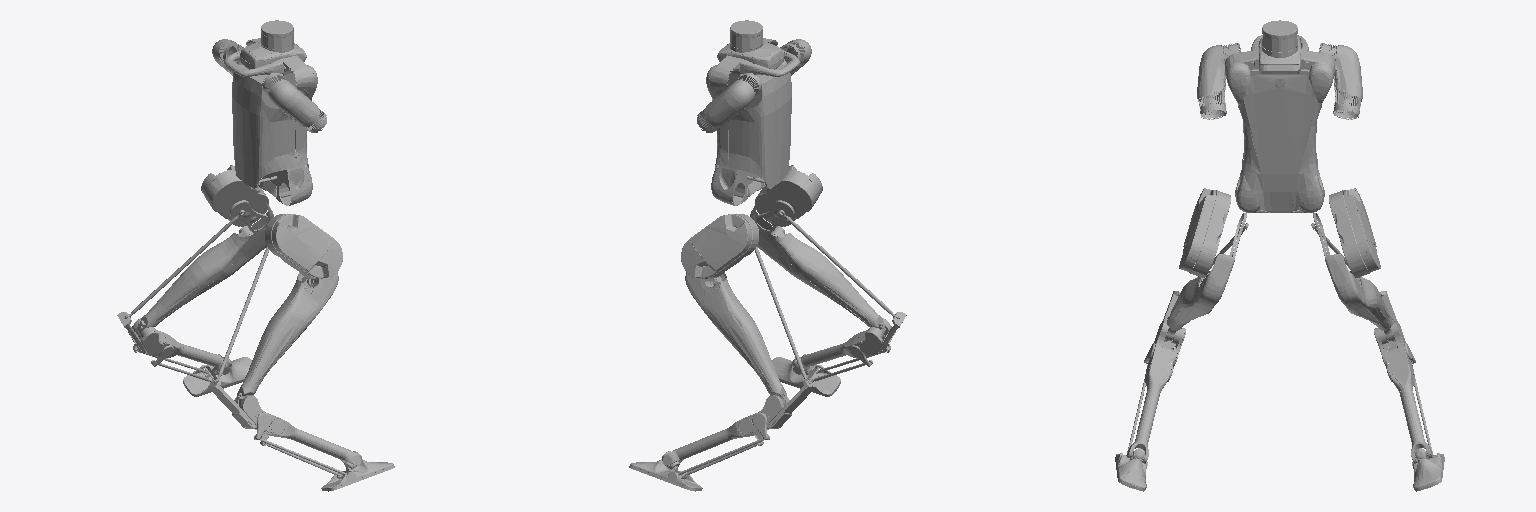
--- Facts derived from the render (not from the file) ---
The picture shows the robot from 3 angles, left to right: view 1: azimuth 30°, elevation 25°; view 2: azimuth 150°, elevation 25°; view 3: azimuth 270°, elevation 25°; orthographic projection.
Robot: digit — 47 links, 46 joints (40 revolute, 6 fixed); root link torso; default pose: all joints at 0.
Links seen in each view (by area): view 1: torso, left_shin, right_shin, right_hip_pitch, left_hip_pitch, right_tarsus, right_shoulder_pitch, left_tarsus, left_toe_roll, right_toe_roll, right_waist_cap, right_shoulder_cap (+3 smaller); view 2: torso, right_shin, left_shin, left_hip_pitch, right_hip_pitch, left_tarsus, left_shoulder_pitch, right_tarsus, right_toe_roll, left_toe_roll, left_waist_cap, left_shoulder_cap (+3 smaller); view 3: torso, left_hip_pitch, right_hip_pitch, left_tarsus, right_tarsus, left_shin, right_shin, left_shoulder_pitch, right_shoulder_pitch, right_shoulder_cap, left_shoulder_cap, left_toe_roll (+3 smaller).
Boxes of the visible links, x1,y1,x2,y2 form: torso: [224, 20, 311, 197]; left_shin: [138, 203, 273, 335]; right_shin: [237, 272, 338, 406]; right_hip_pitch: [265, 214, 342, 278]; left_hip_pitch: [201, 165, 268, 231]; right_tarsus: [232, 395, 361, 465]; right_shoulder_pitch: [262, 73, 326, 132]; left_tarsus: [128, 318, 230, 374]; left_toe_roll: [183, 357, 251, 396]; right_toe_roll: [321, 451, 394, 491]; right_waist_cap: [276, 159, 312, 205]; right_shoulder_cap: [283, 58, 317, 99]; torso: [712, 20, 799, 197]; right_shin: [750, 203, 885, 335]; left_shin: [685, 272, 786, 406]; left_hip_pitch: [681, 214, 758, 278]; right_hip_pitch: [755, 165, 822, 231]; left_tarsus: [662, 395, 791, 465]; left_shoulder_pitch: [697, 73, 761, 132]; right_tarsus: [793, 318, 895, 374]; right_toe_roll: [772, 357, 840, 396]; left_toe_roll: [629, 451, 702, 491]; left_waist_cap: [711, 159, 747, 205]; left_shoulder_cap: [706, 58, 740, 99]; torso: [1237, 20, 1322, 212]; left_hip_pitch: [1313, 188, 1380, 277]; right_hip_pitch: [1179, 188, 1246, 277]; left_tarsus: [1374, 321, 1432, 463]; right_tarsus: [1127, 321, 1185, 463]; left_shin: [1325, 254, 1395, 341]; right_shin: [1164, 254, 1234, 341]; left_shoulder_pitch: [1319, 43, 1362, 119]; right_shoulder_pitch: [1197, 43, 1240, 119]; right_shoulder_cap: [1225, 50, 1253, 104]; left_shoulder_cap: [1306, 50, 1334, 104]; left_toe_roll: [1412, 448, 1444, 491].
Size in the robot's own frame: 0.5602 by 0.9339 by 1.4 metres.
27 mesh visuals loaded from 19 distinct referenced files (12 binary STL); not drawn: 14 (reference not matched to a file when rendering).

robot.urdf — digit:
<?xml version="1.0" encoding="utf-8"?>
<robot name="digit">

    <link name="torso">
        <inertial>
            <origin rpy="0 0 0" xyz="0.001637 0.0002 0.259547"/>
            <mass value="15.028392"/>
            <inertia ixx="0.376284" ixy="-8.8e-05" ixz="0.008378" iyy="0.342655" iyz="6.7e-05" izz="0.100648"/>
        </inertial>
        <visual>
            <origin rpy="0 0 0" xyz="0 0 0"/>
            <geometry>
                <mesh filename="package://digit_description//meshes_new/torso.stl"/>
            </geometry>

            <material name="LightGrey">
                <color rgba="0.7 0.7 0.7 1.0"/>
            </material>
        </visual>
        <collision>
            <origin rpy="0 0 0" xyz="0 0 0"/>
            <geometry>
                <mesh filename="package://digit_description//meshes_new/torso.stl"/>
            </geometry>
        </collision>
    </link>

    <joint name="left_waist_cap_joint" type="fixed">
        <origin rpy="-1.57079632679 1.57 1.57079632679" xyz="-0.001 0.09 0.0"/>
        <axis xyz="0 0 1"/>
        <parent link="torso"/>
        <child link="left_waist_cap"/>
        <limit effort="1.4" lower="-1.309" upper="1.309" velocity="12.5"/>
    </joint>

    <link name="left_waist_cap">
        <inertial>
            <origin rpy="0 0 0" xyz="9e-06 0.003158 0.023405"/>
            <mass value="0.535396"/>
            <inertia ixx="0.000704" ixy="-1.4e-05" ixz="1.2e-05" iyy="0.00075" iyz="-3.5e-05" izz="0.000298"/>
        </inertial>
        <visual>
            <origin rpy="0 0 0" xyz="0 0 0"/>
            <geometry>
                <mesh filename="package://digit_description//meshes_new/shoulder-roll-housing.stl" scale="1 -1 1"/>
            </geometry>
            <material name="LightGrey">
                <color rgba="0.7 0.7 0.7 1.0"/>
            </material>
        </visual>
        <collision>
            <origin rpy="0 0 0" xyz="0 0 0"/>
            <geometry>
                <mesh filename="package://digit_description//meshes_new/shoulder-roll-housing.stl" scale="1 -1 1"/>
            </geometry>
        </collision>
    </link>

    <joint name="left-hip-roll_joint" type="revolute">
        <origin rpy="1.57079632679 -1.1955506 -1.57079632679" xyz="-0.001 0.091 0"/>
        <axis xyz="0 0 1"/>
        <parent link="torso"/>
        <child link="left_hip_roll"/>
        <limit effort="1.4" lower="-1.0472" upper="1.0472" velocity="12.15"/>
    </joint>
    <link name="left_hip_roll">
        <inertial>
            <origin rpy="0 0 0" xyz="-0.001967 0.000244 0.031435"/>
            <mass value="0.915088"/>
            <inertia ixx="0.001017" ixy="-3e-06" ixz="1.3e-05" iyy="0.001148" iyz="-4e-06" izz="0.000766"/>
        </inertial>
        <visual>
            <origin rpy="0 0 0" xyz="0 0 0"/>
            <geometry>
                <mesh filename="package://digit_description//meshes_new/hip-yaw-housing.stl"/>
            </geometry>

            <material name="LightGrey">
                <color rgba="0.7 0.7 0.7 1.0"/>
            </material>
            <material name="LightGrey">
                <color rgba="0.7 0.7 0.7 1.0"/>
            </material>
        </visual>
        <collision>
            <origin rpy="0 0 0" xyz="0 0 0"/>
            <geometry>
                <mesh filename="package://digit_description//meshes_new/hip-yaw-housing.stl"/>
            </geometry>
        </collision>
    </link>

    <joint name="left_hip_yaw_joint" type="revolute">
        <origin rpy="0 -1.57079632679 0" xyz="-0.0505 0 0.044"/>
        <axis xyz="0 0 1"/>
        <parent link="left_hip_roll"/>
        <child link="left_hip_yaw"/>
        <limit effort="1.4" lower="-0.698132" upper="0.698132" velocity="12.15"/>
    </joint>

    <link name="left_hip_yaw">
        <inertial>
            <origin rpy="0 0 0" xyz="1e-05 -0.001945 0.042033"/>
            <mass value="0.818753"/>
            <inertia ixx="0.001627" ixy="-1e-06" ixz="2e-06" iyy="0.001929" iyz="5.3e-05" izz="0.00077"/>
        </inertial>
        <visual>
            <origin rpy="0 0 0" xyz="0 0 0"/>
            <geometry>
                <mesh filename="package://digit_description//meshes_new/hip-pitch-housing.stl"/>
            </geometry>

            <material name="LightGrey">
                <color rgba="0.7 0.7 0.7 1.0"/>
            </material>
        </visual>
        <collision>
            <origin rpy="0 0 0" xyz="0 0 0"/>
            <geometry>
                <mesh filename="package://digit_description//meshes_new/hip-pitch-housing.stl"/>
            </geometry>
        </collision>
    </link>

    <joint name="left_hip_pitch_joint" type="revolute">
        <origin rpy="-1.57079632679 -0.7853981 3.1415927" xyz="0 0.004 0.068"/>
        <axis xyz="0 0 -1"/>
        <parent link="left_hip_yaw"/>
        <child link="left_hip_pitch"/>
        <limit effort="12.5" lower="-1.0472" upper="1.57079632679" velocity="8.5"/>
    </joint>

    <link name="left_hip_pitch">
        <inertial>
            <origin rpy="0 0 0" xyz="0.060537 0.000521 -0.038857"/>
            <mass value="6.244279"/>
            <inertia ixx="0.011533" ixy="-0.000171" ixz="0.000148" iyy="0.033345" iyz="0.000178" izz="0.033958"/>
        </inertial>
        <visual>
            <origin rpy="0 0 0" xyz="0 0 0"/>
            <geometry>
                <mesh filename="package://digit_description//meshes_new/hip-pitch.stl"/>
            </geometry>

            <material name="LightGrey">
                <color rgba="0.7 0.7 0.7 1.0"/>
            </material>
        </visual>
        <collision>
            <origin rpy="0 0 0" xyz="0 0 0"/>
            <geometry>
                <mesh filename="package://digit_description//meshes_new/hip-pitch.stl"/>
            </geometry>
        </collision>
    </link>

    <joint name="left_achillies_rod_joint1" type="revolute">
        <origin rpy="0.0087529 0.0708516 -1.435541" xyz="0 0 0.046"/>
        <axis xyz="0 1 0"/>
        <parent link="left_hip_pitch"/>
        <child link="left_achillies_rod_parent"/>
        <limit effort="12.5" lower="-1.5" upper="1.5" velocity="8.5085"/>
    </joint>

    <link name="left_achillies_rod_parent"/>

    <joint name="left_achillies_rod_joint2" type="revolute">
        <origin rpy="0 0 0" xyz="0 0 0"/>
        <axis xyz="0 0 1"/>
        <parent link="left_achillies_rod_parent"/>
        <child link="left_achillies_rod"/>
        <limit effort="12.5" lower="-1.5" upper="1.5" velocity="8.5085"/>
    </joint>

    <link name="left_achillies_rod">
        <inertial>
            <origin rpy="0 0 0" xyz="0.2506 0 0"/>
            <mass value="0.178148"/>
            <inertia ixx="3e-06" ixy="0" ixz="0" iyy="0.004501" iyz="0" izz="0.004501"/>
        </inertial>
        <visual>
            <origin rpy="0 0 0" xyz="0 0 0"/>
            <geometry>
                <mesh filename="package://digit_description//meshes_new/achilles-rod.stl"/>
            </geometry>

            <material name="LightGrey">
                <color rgba="0.7 0.7 0.7 1.0"/>
            </material>
        </visual>
        <collision>
            <origin rpy="0 0 0" xyz="0 0 0"/>
            <geometry>
                <mesh filename="package://digit_description//meshes_new/achilles-rod.stl"/>
            </geometry>
        </collision>
    </link>

    <joint name="left_knee_joint" type="revolute">
        <origin rpy="0 0 -1.57079632679" xyz="0.12 0 0.0045"/>
        <axis xyz="0 0 1"/>
        <parent link="left_hip_pitch"/>
        <child link="left_knee"/>
        <limit effort="12.5" lower="-1.2392" upper="0.8727" velocity="8.5085"/>
    </joint>

    <link name="left_knee">
        <inertial>
            <origin rpy="0 0 0" xyz="0.045641 0.042154 0.001657"/>
            <mass value="1.227077"/>
            <inertia ixx="0.002643" ixy="-0.001832" ixz="6.6e-05" iyy="0.005098" iyz="4.5e-05" izz="0.007019"/>
        </inertial>
        <visual>
            <origin rpy="0 0 0" xyz="0 0 0"/>
            <geometry>
                <mesh filename="package://digit_description//meshes_new/knee.stl"/>
            </geometry>

            <material name="LightGrey">
                <color rgba="0.7 0.7 0.7 1.0"/>
            </material>
        </visual>
        <collision>
            <origin rpy="0 0 0" xyz="0 0 0"/>
            <geometry>
                <mesh filename="package://digit_description//meshes_new/knee.stl"/>
            </geometry>
        </collision>
    </link>

    <joint name="left_shin_joint" type="fixed">
        <origin rpy="0 0 0" xyz="0.060677 0.047406 0"/>
        <axis xyz="0 0 1"/>
        <parent link="left_knee"/>
        <child link="left_shin"/>
        <limit effort="0" lower="-0.35" upper="0.35" velocity="10"/>
    </joint>

    <link name="left_shin">
        <inertial>
            <origin rpy="0 0 0" xyz="0.174265 0.010265 0.00107"/>
            <mass value="0.895793"/>
            <inertia ixx="0.001128" ixy="0.001098" ixz="0.000196" iyy="0.022492" iyz="-3e-06" izz="0.022793"/>
        </inertial>
        <visual>
            <origin rpy="0 0 0" xyz="0 0 0"/>
            <geometry>
                <mesh filename="package://digit_description//meshes_new/shin.stl"/>
            </geometry>

            <material name="LightGrey">
                <color rgba="0.7 0.7 0.7 1.0"/>
            </material>
        </visual>
        <collision>
            <origin rpy="0 0 0" xyz="0 0 0"/>
            <geometry>
                <mesh filename="package://digit_description//meshes_new/shin.stl"/>
            </geometry>
        </collision>
    </link>

    <joint name="left_tarsus_joint" type="revolute">
        <origin rpy="0 0 1.7976891" xyz="0.434759 0.02 0"/>
        <axis xyz="0 0 1"/>
        <parent link="left_shin"/>
        <child link="left_tarsus"/>
        <limit effort="0" lower="-0.8779" upper="1.2497" velocity="20"/>
    </joint>

    <link name="left_tarsus">
        <inertial>
            <origin rpy="0 0 0" xyz="0.100777 -0.029183 0.000678"/>
            <mass value="1.322865"/>
            <inertia ixx="0.000932" ixy="0.00061" ixz="0.000102" iyy="0.016409" iyz="9e-06" izz="0.016501"/>
        </inertial>
        <visual>
            <origin rpy="0 0 0" xyz="0 0 0"/>
            <geometry>
                <mesh filename="package://digit_description//meshes_new/tarsus.stl"/>
            </geometry>

            <material name="LightGrey">
                <color rgba="0.7 0.7 0.7 1.0"/>
            </material>
        </visual>
        <collision>
            <origin rpy="0 0 0" xyz="0 0 0"/>
            <geometry>
                <mesh filename="package://digit_description//meshes_new/tarsus.stl"/>
            </geometry>
        </collision>
    </link>

    <joint name="left_heel_spring_joint" type="revolute">
        <origin rpy="-0.0689073 -0.0370354 2.7207176" xyz="-0.01766 -0.029456 0.00104"/>
        <axis xyz="0 0 1"/>
        <parent link="left_tarsus"/>
        <child link="left_heel_spring"/>
        <limit effort="0.9" lower="-0.104719753333" upper="0.104719753333" velocity="11.5"/>
    </joint>

    <link name="left_heel_spring">
        <inertial>
            <origin rpy="0 0 0" xyz="0.049086 0.004739 -4.5e-05"/>
            <mass value="0.230018"/>
            <inertia ixx="5.5e-05" ixy="1.5e-05" ixz="1e-06" iyy="0.00074" iyz="0" izz="0.000701"/>
        </inertial>
        <visual>
            <origin rpy="0 0 0" xyz="0 0 0"/>
            <geometry>
                <mesh filename="package://digit_description//meshes_new/heel-spring.stl"/>
            </geometry>

            <material name="LightGrey">
                <color rgba="0.7 0.7 0.7 1.0"/>
            </material>
        </visual>
        <collision>
            <origin rpy="0 0 0" xyz="0 0 0"/>
            <geometry>
                <mesh filename="package://digit_description//meshes_new/heel-spring.stl"/>
            </geometry>
        </collision>
    </link>

    <joint name="left_toe_A_joint" type="revolute">
        <origin rpy="3.1415927 0 -1.6050048" xyz="0.059 -0.034 -0.0276"/>
        <axis xyz="0 0 1"/>
        <parent link="left_tarsus"/>
        <child link="left_toe_A"/>
        <limit effort="0.9" lower="-0.912807183222" upper="1.2644910215" velocity="11.5"/>
    </joint>

    <link name="left_toe_A">
        <inertial>
            <origin rpy="0 0 0" xyz="0.005161 1e-06 -0.002248"/>
            <mass value="0.139557"/>
            <inertia ixx="2.9e-05" ixy="0" ixz="-4e-06" iyy="5.8e-05" iyz="0" izz="7.4e-05"/>
        </inertial>
        <visual>
            <origin rpy="0 0 0" xyz="0 0 0"/>
            <geometry>
                <mesh filename="package://digit_description//meshes_new/toe-output.stl"/>
            </geometry>

            <material name="LightGrey">
                <color rgba="0.7 0.7 0.7 1.0"/>
            </material>
        </visual>
        <collision>
            <origin rpy="0 0 0" xyz="0 0 0"/>
            <geometry>
                <mesh filename="package://digit_description//meshes_new/toe-output.stl"/>
            </geometry>
        </collision>
    </link>

    <joint name="left_toe_A_rod_parent_joint" type="revolute">
        <origin rpy="-0.037531 0.0046535 -1.6049813" xyz="0.057 0 -0.008"/>
        <axis xyz="0 1 0"/>
        <parent link="left_toe_A"/>
        <child link="left_toe_A_rod_parent"/>
        <limit effort="0.9" lower="-3.785398163397" upper="3.785398163397" velocity="11.5"/>
    </joint>

    <link name="left_toe_A_rod_parent" />

    <joint name="left_toe_A_rod_joint" type="revolute">
        <origin rpy="0 0 0" xyz="0 0 0"/>
        <axis xyz="0 0 1"/>
        <parent link="left_toe_A_rod_parent"/>
        <child link="left_toe_A_rod"/>
        <limit effort="0.9" lower="-3.785398163397" upper="3.785398163397" velocity="11.5"/>
    </joint>

    <link name="left_toe_A_rod">
        <inertial>
            <origin rpy="0 0 0" xyz="0.171071 0 0"/>
            <mass value="0.090983"/>
            <inertia ixx="1e-06" ixy="0" ixz="0" iyy="0.001182" iyz="0" izz="0.001182"/>
        </inertial>
        <visual>
            <origin rpy="0 0 0" xyz="0 0 0"/>
            <geometry>
                <mesh filename="package://digit_description//meshes_new/toe-A-rod.stl"/>
            </geometry>

            <material name="LightGrey">
                <color rgba="0.7 0.7 0.7 1.0"/>
            </material>
        </visual>
        <collision>
            <origin rpy="0 0 0" xyz="0 0 0"/>
            <geometry>
                <mesh filename="package://digit_description//meshes_new/toe-A-rod.stl"/>
            </geometry>
        </collision>
    </link>

    <joint name="left_toe_B_joint" type="revolute">
        <origin rpy="0 0 -1.6049813" xyz="0.111 -0.034 0.0276"/>
        <axis xyz="0 0 1"/>
        <parent link="left_tarsus"/>
        <child link="left_toe_B"/>
        <limit effort="0.9" lower="-0.912807183222" upper="1.2644910215" velocity="11.5"/>
    </joint>

    <link name="left_toe_B">
        <inertial>
            <origin rpy="0 0 0" xyz="0.005161 1e-06 -0.002248"/>
            <mass value="0.139557"/>
            <inertia ixx="2.9e-05" ixy="0" ixz="-4e-06" iyy="5.8e-05" iyz="0" izz="7.4e-05"/>
        </inertial>
        <visual>
            <origin rpy="0 0 0" xyz="0 0 0"/>
            <geometry>
                <mesh filename="package://digit_description//meshes_new/toe-output.stl"/>
            </geometry>

            <material name="LightGrey">
                <color rgba="0.7 0.7 0.7 1.0"/>
            </material>
        </visual>
        <collision>
            <origin rpy="0 0 0" xyz="0 0 0"/>
            <geometry>
                <mesh filename="package://digit_description//meshes_new/toe-output.stl"/>
            </geometry>
        </collision>
    </link>

    <joint name="left_toe_B_rod_parent_joint" type="revolute">
        <origin rpy="-0.0538329 -0.0025446 1.5948471" xyz="0.057 0 -0.008"/>
        <axis xyz="0 1 0"/>
        <parent link="left_toe_B"/>
        <child link="left_toe_B_rod_parent"/>
        <limit effort="0.9" lower="-3.785398163397" upper="3.785398163397" velocity="11.5"/>
    </joint>

    <link name="left_toe_B_rod_parent" />

    <joint name="left_toe_B_rod_joint" type="revolute">
        <origin rpy="0 0 0" xyz="0 0 0"/>
        <axis xyz="0 0 1"/>
        <parent link="left_toe_B_rod_parent"/>
        <child link="left_toe_B_rod"/>
        <limit effort="0.9" lower="-3.785398163397" upper="3.785398163397" velocity="11.5"/>
    </joint>

    <link name="left_toe_B_rod">
        <inertial>
            <origin rpy="0 0 0" xyz="0.142991 0 0"/>
            <mass value="0.079507"/>
            <inertia ixx="1e-06" ixy="0" ixz="0" iyy="0.000768" iyz="0" izz="0.000768"/>
        </inertial>
        <visual>
            <origin rpy="0 0 0" xyz="0 0 0"/>
            <geometry>
                <mesh filename="package://digit_description//meshes_new/toe-B-rod.stl"/>
            </geometry>

            <material name="LightGrey">
                <color rgba="0.7 0.7 0.7 1.0"/>
            </material>
        </visual>
        <collision>
            <origin rpy="0 0 0" xyz="0 0 0"/>
            <geometry>
                <mesh filename="package://digit_description//meshes_new/toe-B-rod.stl"/>
            </geometry>
        </collision>
    </link>

    <joint name="left_toe_pitch_joint" type="revolute">
        <origin rpy="0 0 1.1956" xyz="0.408 -0.04 0"/>
        <axis xyz="0 0 1"/>
        <parent link="left_tarsus"/>
        <child link="left_toe_pitch"/>
        <limit effort="0.9" lower="-0.785398163397" upper="0.785398163397" velocity="11.5"/>
    </joint>

    <link name="left_toe_pitch">
        <inertial>
            <origin rpy="0 0 0" xyz="-0.000141 2e-06 3e-06"/>
            <mass value="0.043881"/>
            <inertia ixx="5e-06" ixy="0" ixz="0" iyy="8e-06" iyz="0" izz="5e-06"/>
        </inertial>
        <visual>
            <origin rpy="0 0 0" xyz="0 0 0"/>
            <geometry>
                <mesh filename="package://digit_description//meshes_new/toe-pitch.stl"/>
            </geometry>

            <material name="LightGrey">
                <color rgba="0.7 0.7 0.7 1.0"/>
            </material>
        </visual>
        <collision>
            <origin rpy="0 0 0" xyz="0 0 0"/>
            <geometry>
                <mesh filename="package://digit_description//meshes_new/toe-pitch.stl"/>
            </geometry>
        </collision>
    </link>

    <joint name="left_toe_roll_joint" type="revolute">
        <origin rpy="0 1.57079632679 0" xyz="0 0 0"/>
        <axis xyz="0 0 1"/>
        <parent link="left_toe_pitch"/>
        <child link="left_toe_roll"/>
        <limit effort="0.9" lower="-0.6109" upper="0.6109" velocity="11.5"/>
    </joint>

    <link name="left_toe_roll">
        <inertial>
            <origin rpy="0 0 0" xyz="9e-06 -0.028084 -0.023204"/>
            <mass value="0.531283"/>
            <inertia ixx="0.00187" ixy="0" ixz="0" iyy="0.001616" iyz="0.000566" izz="0.000843"/>
        </inertial>
        <visual>
            <origin rpy="0 0 0" xyz="0 0 0"/>
            <geometry>
                <mesh filename="package://digit_description//meshes_new/toe-roll.stl"/>
            </geometry>

            <material name="LightGrey">
                <color rgba="0.7 0.7 0.7 1.0"/>
            </material>
        </visual>
        <collision>
            <origin rpy="0 0 0" xyz="0 0 0"/>
            <geometry>
                <mesh filename="package://digit_description//meshes_new/toe-roll.stl"/>
            </geometry>
        </collision>
    </link>

    <joint name="left_shoulder_cap_joint" type="fixed">
        <origin rpy="-1.57079632679 -1.3962633 1.57079632679" xyz="0.001 0.12 0.4"/>
        <axis xyz="0 0 1"/>
        <parent link="torso"/>
        <child link="left_shoulder_cap"/>
        <limit effort="1.4" lower="-1.309" upper="1.309" velocity="12.5"/>
    </joint>

    <link name="left_shoulder_cap">
        <inertial>
            <origin rpy="0 0 0" xyz="9e-06 -0.003158 0.023405"/>
            <mass value="0.535396"/>
            <inertia ixx="0.000704" ixy="1.4e-05" ixz="1.2e-05" iyy="0.00075" iyz="3.5e-05" izz="0.000298"/>
        </inertial>
        <visual>
            <origin rpy="0 0 0" xyz="0 0 0"/>
            <geometry>
                <mesh filename="package://digit_description//meshes_new/shoulder-roll-housing.stl"/>
            </geometry>

            <material name="LightGrey">
                <color rgba="0.7 0.7 0.7 1.0"/>
            </material>
        </visual>
        <collision>
            <origin rpy="0 0 0" xyz="0 0 0"/>
            <geometry>
                <mesh filename="package://digit_description//meshes_new/shoulder-roll-housing.stl"/>
            </geometry>
        </collision>
    </link>

    <joint name="left_shoulder_roll_joint" type="revolute">
        <origin rpy="-1.57079632679 -1.3962633 1.57079632679" xyz="-0.001 0.12 0.4"/>
        <axis xyz="0 0 1"/>
        <parent link="torso"/>
        <child link="left_shoulder_roll"/>
        <limit effort="1.4" lower="-1.309" upper="1.309" velocity="12.5"/>
    </joint>

    <link name="left_shoulder_roll">
        <inertial>
            <origin rpy="0 0 0" xyz="9e-06 -0.003158 0.023405"/>
            <mass value="0.535396"/>
            <inertia ixx="0.000704" ixy="1.4e-05" ixz="1.2e-05" iyy="0.00075" iyz="3.5e-05" izz="0.000298"/>
        </inertial>
        <visual>
            <origin rpy="0 0 0" xyz="0 0 0"/>
            <geometry>
                <mesh filename="package://digit_description//meshes_new/arm-L1.stl"/>
            </geometry>

            <material name="LightGrey">
                <color rgba="0.7 0.7 0.7 1.0"/>
            </material>
        </visual>
        <collision>
            <origin rpy="0 0 0" xyz="0 0 0"/>
            <geometry>
                <mesh filename="package://digit_description//meshes_new/arm-L1.stl"/>
            </geometry>
        </collision>
    </link>

    <joint name="left_shoulder_pitch_joint" type="revolute">
        <origin rpy="1.57079632679 0.785398163397 0.0" xyz="-0.00017 -0.011055 0.0555"/>
        <axis xyz="0 0 -1"/>
        <parent link="left_shoulder_roll"/>
        <child link="left_shoulder_pitch"/>
        <limit effort="1.4" lower="-2.5307" upper="2.5307" velocity="12.5"/>
    </joint>

    <link name="left_shoulder_pitch">
        <inertial>
            <origin rpy="0 0 0" xyz="-4.2e-05 -0.061882 -0.073788"/>
            <mass value="1.440357"/>
            <inertia ixx="0.006761" ixy="-6e-06" ixz="-3e-06" iyy="0.002087" iyz="-0.002046" izz="0.005778"/>
        </inertial>
        <visual>
            <origin rpy="0 0 0" xyz="0 0 0"/>
            <geometry>
                <mesh filename="package://digit_description//meshes_new/arm-L2.stl"/>
            </geometry>
            <material name="LightGrey">
                <color rgba="0.7 0.7 0.7 1.0"/>
            </material>
        </visual>
        <collision>
            <origin rpy="0 0 0" xyz="0 0 0"/>
            <geometry>
                <mesh filename="package://digit_description//meshes_new/arm-L2.stl"/>
            </geometry>
        </collision>
    </link>

    <joint name="shoulder_yaw_joint_left" type="revolute">
        <origin rpy="1.57079632679 0 0" xyz="0 -0.165 -0.1"/>
        <axis xyz="0 0 1"/>
        <parent link="left_shoulder_pitch"/>
        <child link="left_shoulder_yaw"/>
        <limit effort="1.4" lower="-1.7453" upper="1.7453" velocity="10"/>
    </joint>

    <link name="left_shoulder_yaw">
        <inertial>
            <origin rpy="0 0 0" xyz="-3e-05 -0.001937 0.11407"/>
            <mass value="1.065387"/>
            <inertia ixx="0.006967" ixy="1e-06" ixz="-1e-06" iyy="0.007003" iyz="1.5e-05" izz="0.000673"/>
        </inertial>
        <visual>
            <origin rpy="0 0 0" xyz="0 0 0"/>
            <geometry>
                <mesh filename="package://digit_description//meshes_new/arm-L3.stl"/>
            </geometry>

            <material name="LightGrey">
                <color rgba="0.7 0.7 0.7 1.0"/>
            </material>
        </visual>
        <collision>
            <origin rpy="0 0 0" xyz="0 0 0"/>
            <geometry>
                <mesh filename="package://digit_description//meshes_new/arm-L3.stl"/>
            </geometry>
        </collision>
    </link>

    <joint name="left_elbow_joint" type="revolute">
        <origin rpy="1.57079632679 -0.3926991 0" xyz="0 -0.0385 0.185"/>
        <axis xyz="0 0 1"/>
        <parent link="left_shoulder_yaw"/>
        <child link="left_elbow"/>
        <limit effort="1.4" lower="-1.3526" upper="1.3526" velocity="12.5"/>
    </joint>

    <link name="left_elbow">
        <inertial>
            <origin rpy="0 0 0" xyz="0.107996 -0.000521 -0.017765"/>
            <mass value="0.550582"/>
            <inertia ixx="0.000476" ixy="2.9e-05" ixz="0.001403" iyy="0.009564" iyz="1.5e-05" izz="-9e-06"/>
        </inertial>
        <visual>
            <origin rpy="0 0 0" xyz="0 0 0"/>
            <geometry>
                <mesh filename="package://digit_description//meshes_new/arm-L4.stl"/>
            </geometry>

            <material name="LightGrey">
                <color rgba="0.7 0.7 0.7 1.0"/>
            </material>
        </visual>
        <collision>
            <origin rpy="0 0 0" xyz="0 0 0"/>
            <geometry>
                <mesh filename="package://digit_description//meshes_new/arm-L4.stl"/>
            </geometry>
        </collision>
    </link>


    <joint name="right_waist_cap_joint" type="fixed">
        <origin rpy="1.57079632679 1.57 -1.57079632679" xyz="-0.001 -0.09 0.0"/>
        <axis xyz="0 0 1"/>
        <parent link="torso"/>
        <child link="right_waist_cap"/>
        <limit effort="1.4" lower="-1.309" upper="1.309" velocity="12.5"/>
    </joint>

    <link name="right_waist_cap">
        <inertial>
            <origin rpy="0 0 0" xyz="9e-06 -0.003158 0.023405"/>
            <mass value="0.535396"/>
            <inertia ixx="0.000704" ixy="1.4e-05" ixz="1.2e-05" iyy="0.00075" iyz="3.5e-05" izz="0.000298"/>
        </inertial>
        <visual>
            <origin rpy="0 0 0" xyz="0 0 0"/>
            <geometry>
                <mesh filename="package://digit_description//meshes_new/shoulder-roll-housing.stl"/>
            </geometry>
            <material name="LightGrey">
                <color rgba="0.7 0.7 0.7 1.0"/>
            </material>
        </visual>
        <collision>
            <origin rpy="0 0 0" xyz="0 0 0"/>
            <geometry>
                <mesh filename="package://digit_description//meshes_new/shoulder-roll-housing.stl"/>
            </geometry>
        </collision>
    </link>

    <joint name="right-hip-roll_joint" type="revolute">
        <origin rpy="-1.57079632679 -1.1955506 1.57079632679" xyz="-0.001 -0.091 0"/>
        <axis xyz="0 0 1"/>
        <parent link="torso"/>
        <child link="right_hip_roll"/>
        <limit effort="1.4" lower="-1.0472" upper="1.0472" velocity="12.15"/>
    </joint>
    <link name="right_hip_roll">
        <inertial>
            <origin rpy="0 0 0" xyz="-0.001967 -0.000244 0.031435"/>
            <mass value="0.915088"/>
            <inertia ixx="0.001017" ixy="3e-06" ixz="1.3e-05" iyy="0.001148" iyz="4e-06" izz="0.000766"/>
        </inertial>
        <visual>
            <origin rpy="0 0 0" xyz="0 0 0"/>
            <geometry>
                <mesh filename="package://digit_description//meshes_new/hip-yaw-housing.stl" scale="1 -1 1"/>
            </geometry>

            <material name="LightGrey">
                <color rgba="0.7 0.7 0.7 1.0"/>
            </material>
            <material name="LightGrey">
                <color rgba="0.7 0.7 0.7 1.0"/>
            </material>
        </visual>
        <collision>
            <origin rpy="0 0 0" xyz="0 0 0"/>
            <geometry>
                <mesh filename="package://digit_description//meshes_new/hip-yaw-housing.stl" scale="1 -1 1"/>
            </geometry>
        </collision>
    </link>

    <joint name="right_hip_yaw_joint" type="revolute">
        <origin rpy="0 -1.57079632679 0" xyz="-0.0505 0 0.044"/>
        <axis xyz="0 0 1"/>
        <parent link="right_hip_roll"/>
        <child link="right_hip_yaw"/>
        <limit effort="1.4" lower="-0.698132" upper="0.698132" velocity="12.15"/>
    </joint>

    <link name="right_hip_yaw">
        <inertial>
            <origin rpy="0 0 0" xyz="1e-05 0.001945 0.042033"/>
            <mass value="0.818753"/>
            <inertia ixx="0.001627" ixy="1e-06" ixz="2e-06" iyy="0.001929" iyz="-5.3e-05" izz="0.00077"/>
        </inertial>
        <visual>
            <origin rpy="0 0 0" xyz="0 0 0"/>
            <geometry>
                <mesh filename="package://digit_description//meshes_new/hip-pitch-housing.stl" scale="1 -1 1"/>
            </geometry>

            <material name="LightGrey">
                <color rgba="0.7 0.7 0.7 1.0"/>
            </material>
        </visual>
        <collision>
            <origin rpy="0 0 0" xyz="0 0 0"/>
            <geometry>
                <mesh filename="package://digit_description//meshes_new/hip-pitch-housing.stl" scale="1 -1 1"/>
            </geometry>
        </collision>
    </link>

    <joint name="right_hip_pitch_joint" type="revolute">
        <origin rpy="1.57079632679 -0.7853981 -3.1415927" xyz="0 -0.004 0.068"/>
        <axis xyz="0 0 -1"/>
        <parent link="right_hip_yaw"/>
        <child link="right_hip_pitch"/>
        <limit effort="12.5" lower="-1.0472" upper="1.57079632679" velocity="8.5"/>
    </joint>

    <link name="right_hip_pitch">
        <inertial>
            <origin rpy="0 0 0" xyz="0.060537 -0.000521 -0.038857"/>
            <mass value="6.244279"/>
            <inertia ixx="0.011533" ixy="0.000171" ixz="0.000148" iyy="0.033345" iyz="-0.000178" izz="0.033958"/>
        </inertial>
        <visual>
            <origin rpy="0 0 0" xyz="0 0 0"/>
            <geometry>
                <mesh filename="package://digit_description//meshes_new/hip-pitch.stl" scale="1 -1 1"/>
            </geometry>

            <material name="LightGrey">
                <color rgba="0.7 0.7 0.7 1.0"/>
            </material>
        </visual>
        <collision>
            <origin rpy="0 0 0" xyz="0 0 0"/>
            <geometry>
                <mesh filename="package://digit_description//meshes_new/hip-pitch.stl" scale="1 -1 1"/>
            </geometry>
        </collision>
    </link>

    <joint name="right_achillies_rod_joint1" type="revolute">
        <origin rpy="-0.0087529 0.0708516 1.435541" xyz="0 0 0.046"/>
        <axis xyz="0 1 0"/>
        <parent link="right_hip_pitch"/>
        <child link="right_achillies_rod_parent"/>
        <limit effort="12.5" lower="-1.5" upper="1.5" velocity="8.5085"/>
    </joint>

    <link name="right_achillies_rod_parent"/>

    <joint name="right_achillies_rod_joint2" type="revolute">
        <origin rpy="0 0 0" xyz="0 0 0"/>
        <axis xyz="0 0 1"/>
        <parent link="right_achillies_rod_parent"/>
        <child link="right_achillies_rod"/>
        <limit effort="12.5" lower="-1.5" upper="1.5" velocity="8.5085"/>
    </joint>

    <link name="right_achillies_rod">
        <inertial>
            <origin rpy="0 0 0" xyz="0.2506 0 0"/>
            <mass value="0.178148"/>
            <inertia ixx="3e-06" ixy="0" ixz="0" iyy="0.004501" iyz="0" izz="0.004501"/>
        </inertial>
        <visual>
            <origin rpy="0 0 0" xyz="0 0 0"/>
            <geometry>
                <mesh filename="package://digit_description//meshes_new/achilles-rod.stl" scale="1 -1 1"/>
            </geometry>

            <material name="LightGrey">
                <color rgba="0.7 0.7 0.7 1.0"/>
            </material>
        </visual>
        <collision>
            <origin rpy="0 0 0" xyz="0 0 0"/>
            <geometry>
                <mesh filename="package://digit_description//meshes_new/achilles-rod.stl" scale="1 -1 1"/>
            </geometry>
        </collision>
    </link>

    <joint name="right_knee_joint" type="revolute">
        <origin rpy="0 0 1.57079632679" xyz="0.12 0 0.0045"/>
        <axis xyz="0 0 1"/>
        <parent link="right_hip_pitch"/>
        <child link="right_knee"/>
        <limit effort="12.5" lower="-0.8727" upper="1.2392" velocity="8.5085"/>
    </joint>

    <link name="right_knee">
        <inertial>
            <origin rpy="0 0 0" xyz="0.045641 -0.042154 0.001657"/>
            <mass value="1.227077"/>
            <inertia ixx="0.002643" ixy="0.001832" ixz="6.6e-05" iyy="0.005098" iyz="-4.5e-05" izz="0.007019"/>
        </inertial>
        <visual>
            <origin rpy="0 0 0" xyz="0 0 0"/>
            <geometry>
                <mesh filename="package://digit_description//meshes_new/knee.stl" scale="1 -1 1"/>
            </geometry>

            <material name="LightGrey">
                <color rgba="0.7 0.7 0.7 1.0"/>
            </material>
        </visual>
        <collision>
            <origin rpy="0 0 0" xyz="0 0 0"/>
            <geometry>
                <mesh filename="package://digit_description//meshes_new/knee.stl" scale="1 -1 1"/>
            </geometry>
        </collision>
    </link>

    <joint name="right_shin_joint" type="fixed">
        <origin rpy="0 0 0" xyz="0.060677 -0.047406 0"/>
        <axis xyz="0 0 1"/>
        <parent link="right_knee"/>
        <child link="right_shin"/>
        <limit effort="0" lower="-0.35" upper="0.35" velocity="10"/>
    </joint>

    <link name="right_shin">
        <inertial>
            <origin rpy="0 0 0" xyz="0.174265 -0.010265 0.00107"/>
            <mass value="0.895793"/>
            <inertia ixx="0.001128" ixy="-0.001098" ixz="0.000196" iyy="0.022492" iyz="3e-06" izz="0.022793"/>
        </inertial>
        <visual>
            <origin rpy="0 0 0" xyz="0 0 0"/>
            <geometry>
                <mesh filename="package://digit_description//meshes_new/shin.stl" scale="1 -1 1"/>
            </geometry>

            <material name="LightGrey">
                <color rgba="0.7 0.7 0.7 1.0"/>
            </material>
        </visual>
        <collision>
            <origin rpy="0 0 0" xyz="0 0 0"/>
            <geometry>
                <mesh filename="package://digit_description//meshes_new/shin.stl" scale="1 -1 1"/>
            </geometry>
        </collision>
    </link>

    <joint name="right_tarsus_joint" type="revolute">
        <origin rpy="0 0 -1.7976891" xyz="0.434759 -0.02 0"/>
        <axis xyz="0 0 1"/>
        <parent link="right_shin"/>
        <child link="right_tarsus"/>
        <limit effort="0" lower="-1.2497" upper="0.8779" velocity="20"/>
    </joint>

    <link name="right_tarsus">
        <inertial>
            <origin rpy="0 0 0" xyz="0.100777 0.029183 0.000678"/>
            <mass value="1.322865"/>
            <inertia ixx="0.000932" ixy="-0.00061" ixz="0.000102" iyy="0.016409" iyz="-9e-06" izz="0.016501"/>
        </inertial>
        <visual>
            <origin rpy="0 0 0" xyz="0 0 0"/>
            <geometry>
                <mesh filename="package://digit_description//meshes_new/tarsus.stl" scale="1 -1 1"/>
            </geometry>

            <material name="LightGrey">
                <color rgba="0.7 0.7 0.7 1.0"/>
            </material>
        </visual>
        <collision>
            <origin rpy="0 0 0" xyz="0 0 0"/>
            <geometry>
                <mesh filename="package://digit_description//meshes_new/tarsus.stl" scale="1 -1 1"/>
            </geometry>
        </collision>
    </link>

    <joint name="right_heel_spring_joint" type="revolute">
        <origin rpy="0.0689073 -0.0370354 -2.7207176" xyz="-0.01766 0.029456 0.00104"/>
        <axis xyz="0 0 1"/>
        <parent link="right_tarsus"/>
        <child link="right_heel_spring"/>
        <limit effort="0.9" lower="-0.104719753333" upper="0.104719753333" velocity="11.5"/>
    </joint>

    <link name="right_heel_spring">
        <inertial>
            <origin rpy="0 0 0" xyz="0.049086 -0.004739 -4.5e-05"/>
            <mass value="0.230018"/>
            <inertia ixx="5.5e-05" ixy="-1.5e-05" ixz="1e-06" iyy="0.00074" iyz="0" izz="0.000701"/>
        </inertial>
        <visual>
            <origin rpy="0 0 0" xyz="0 0 0"/>
            <geometry>
                <mesh filename="package://digit_description//meshes_new/heel-spring.stl" scale="1 -1 1"/>
            </geometry>

            <material name="LightGrey">
                <color rgba="0.7 0.7 0.7 1.0"/>
            </material>
        </visual>
        <collision>
            <origin rpy="0 0 0" xyz="0 0 0"/>
            <geometry>
                <mesh filename="package://digit_description//meshes_new/heel-spring.stl" scale="1 -1 1"/>
            </geometry>
        </collision>
    </link>

    <joint name="right_toe_A_joint" type="revolute">
        <origin rpy="-3.1415927 0 1.6050048" xyz="0.059 0.034 -0.0276"/>
        <axis xyz="0 0 1"/>
        <parent link="right_tarsus"/>
        <child link="right_toe_A"/>
        <limit effort="0.9" lower="-1.2644910215" upper="0.912807183222" velocity="11.5"/>
    </joint>

    <link name="right_toe_A">
        <inertial>
            <origin rpy="0 0 0" xyz="0.005161 -1e-06 -0.002248"/>
            <mass value="0.139557"/>
            <inertia ixx="2.9e-05" ixy="0" ixz="-4e-06" iyy="5.8e-05" iyz="0" izz="7.4e-05"/>
        </inertial>
        <visual>
            <origin rpy="0 0 0" xyz="0 0 0"/>
            <geometry>
                <mesh filename="package://digit_description//meshes_new/toe-output.stl" scale="1 -1 1"/>
            </geometry>

            <material name="LightGrey">
                <color rgba="0.7 0.7 0.7 1.0"/>
            </material>
        </visual>
        <collision>
            <origin rpy="0 0 0" xyz="0 0 0"/>
            <geometry>
                <mesh filename="package://digit_description//meshes_new/toe-output.stl" scale="1 -1 1"/>
            </geometry>
        </collision>
    </link>

    <joint name="right_toe_A_rod_parent_joint" type="revolute">
        <origin rpy="0.037531 0.0046535 1.6049813" xyz="0.057 0 -0.008"/>
        <axis xyz="0 1 0"/>
        <parent link="right_toe_A"/>
        <child link="right_toe_A_rod_parent"/>
        <limit effort="0.9" lower="-3.785398163397" upper="3.785398163397" velocity="11.5"/>
    </joint>

    <link name="right_toe_A_rod_parent" />

    <joint name="right_toe_A_rod_joint" type="revolute">
        <origin rpy="0 0 0" xyz="0 0 0"/>
        <axis xyz="0 0 1"/>
        <parent link="right_toe_A_rod_parent"/>
        <child link="right_toe_A_rod"/>
        <limit effort="0.9" lower="-3.785398163397" upper="3.785398163397" velocity="11.5"/>
    </joint>

    <link name="right_toe_A_rod">
        <inertial>
            <origin rpy="0 0 0" xyz="0.171071 0 0"/>
            <mass value="0.090983"/>
            <inertia ixx="1e-06" ixy="0" ixz="0" iyy="0.001182" iyz="0" izz="0.001182"/>
        </inertial>
        <visual>
            <origin rpy="0 0 0" xyz="0 0 0"/>
            <geometry>
                <mesh filename="package://digit_description//meshes_new/toe-A-rod.stl" scale="1 -1 1"/>
            </geometry>

            <material name="LightGrey">
                <color rgba="0.7 0.7 0.7 1.0"/>
            </material>
        </visual>
        <collision>
            <origin rpy="0 0 0" xyz="0 0 0"/>
            <geometry>
                <mesh filename="package://digit_description//meshes_new/toe-A-rod.stl" scale="1 -1 1"/>
            </geometry>
        </collision>
    </link>

    <joint name="right_toe_B_joint" type="revolute">
        <origin rpy="0 0 1.6049813" xyz="0.111 0.034 0.0276"/>
        <axis xyz="0 0 1"/>
        <parent link="right_tarsus"/>
        <child link="right_toe_B"/>
        <limit effort="0.9" lower="-0.912807183222" upper="1.2644910215" velocity="11.5"/>
    </joint>

    <link name="right_toe_B">
        <inertial>
            <origin rpy="0 0 0" xyz="0.005161 -1e-06 -0.002248"/>
            <mass value="0.139557"/>
            <inertia ixx="2.9e-05" ixy="0" ixz="-4e-06" iyy="5.8e-05" iyz="0" izz="7.4e-05"/>
        </inertial>
        <visual>
            <origin rpy="0 0 0" xyz="0 0 0"/>
            <geometry>
                <mesh filename="package://digit_description//meshes_new/toe-output.stl" scale="1 -1 1"/>
            </geometry>

            <material name="LightGrey">
                <color rgba="0.7 0.7 0.7 1.0"/>
            </material>
        </visual>
        <collision>
            <origin rpy="0 0 0" xyz="0 0 0"/>
            <geometry>
                <mesh filename="package://digit_description//meshes_new/toe-output.stl" scale="1 -1 1"/>
            </geometry>
        </collision>
    </link>

    <joint name="right_toe_B_rod_parent_joint" type="revolute">
        <origin rpy="0.0538329 -0.0025446 -1.5948471" xyz="0.057 0 -0.008"/>
        <axis xyz="0 1 0"/>
        <parent link="right_toe_B"/>
        <child link="right_toe_B_rod_parent"/>
        <limit effort="0.9" lower="-3.785398163397" upper="3.785398163397" velocity="11.5"/>
    </joint>

    <link name="right_toe_B_rod_parent" />

    <joint name="right_toe_B_rod_joint" type="revolute">
        <origin rpy="0 0 0" xyz="0 0 0"/>
        <axis xyz="0 0 1"/>
        <parent link="right_toe_B_rod_parent"/>
        <child link="right_toe_B_rod"/>
        <limit effort="0.9" lower="-3.785398163397" upper="3.785398163397" velocity="11.5"/>
    </joint>

    <link name="right_toe_B_rod">
        <inertial>
            <origin rpy="0 0 0" xyz="0.142991 0 0"/>
            <mass value="0.079507"/>
            <inertia ixx="1e-06" ixy="0" ixz="0" iyy="0.000768" iyz="0" izz="0.000768"/>
        </inertial>
        <visual>
            <origin rpy="0 0 0" xyz="0 0 0"/>
            <geometry>
                <mesh filename="package://digit_description//meshes_new/toe-B-rod.stl" scale="1 -1 1"/>
            </geometry>

            <material name="LightGrey">
                <color rgba="0.7 0.7 0.7 1.0"/>
            </material>
        </visual>
        <collision>
            <origin rpy="0 0 0" xyz="0 0 0"/>
            <geometry>
                <mesh filename="package://digit_description//meshes_new/toe-B-rod.stl" scale="1 -1 1"/>
            </geometry>
        </collision>
    </link>

    <joint name="right_toe_pitch_joint" type="revolute">
        <origin rpy="0 0 -1.1956" xyz="0.408 0.04 0"/>
        <axis xyz="0 0 1"/>
        <parent link="right_tarsus"/>
        <child link="right_toe_pitch"/>
        <limit effort="0.9" lower="-0.785398163397" upper="0.785398163397" velocity="11.5"/>
    </joint>

    <link name="right_toe_pitch">
        <inertial>
            <origin rpy="0 0 0" xyz="-0.000141 -2e-06 3e-06"/>
            <mass value="0.043881"/>
            <inertia ixx="5e-06" ixy="0" ixz="0" iyy="8e-06" iyz="0" izz="5e-06"/>
        </inertial>
        <visual>
            <origin rpy="0 0 0" xyz="0 0 0"/>
            <geometry>
                <mesh filename="package://digit_description//meshes_new/toe-pitch.stl" scale="1 -1 1"/>
            </geometry>

            <material name="LightGrey">
                <color rgba="0.7 0.7 0.7 1.0"/>
            </material>
        </visual>
        <collision>
            <origin rpy="0 0 0" xyz="0 0 0"/>
            <geometry>
                <mesh filename="package://digit_description//meshes_new/toe-pitch.stl" scale="1 -1 1"/>
            </geometry>
        </collision>
    </link>

    <joint name="right_toe_roll_joint" type="revolute">
        <origin rpy="0 1.57079632679 0" xyz="0 0 0"/>
        <axis xyz="0 0 1"/>
        <parent link="right_toe_pitch"/>
        <child link="right_toe_roll"/>
        <limit effort="0.9" lower="-0.6109" upper="0.6109" velocity="11.5"/>
    </joint>

    <link name="right_toe_roll">
        <inertial>
            <origin rpy="0 0 0" xyz="9e-06 0.028084 -0.023204"/>
            <mass value="0.531283"/>
            <inertia ixx="0.00187" ixy="0" ixz="0" iyy="0.001616" iyz="-0.000566" izz="0.000843"/>
        </inertial>
        <visual>
            <origin rpy="0 0 0" xyz="0 0 0"/>
            <geometry>
                <mesh filename="package://digit_description//meshes_new/toe-roll.stl" scale="1 -1 1"/>
            </geometry>

            <material name="LightGrey">
                <color rgba="0.7 0.7 0.7 1.0"/>
            </material>
        </visual>
        <collision>
            <origin rpy="0 0 0" xyz="0 0 0"/>
            <geometry>
                <mesh filename="package://digit_description//meshes_new/toe-roll.stl" scale="1 -1 1"/>
            </geometry>
        </collision>
    </link>

    <joint name="right_shoulder_cap_joint" type="fixed">
        <origin rpy="1.57079632679 -1.3962633 -1.57079632679" xyz="0.001 -0.12 0.4"/>
        <axis xyz="0 0 1"/>
        <parent link="torso"/>
        <child link="right_shoulder_cap"/>
        <limit effort="1.4" lower="-1.309" upper="1.309" velocity="12.5"/>
    </joint>

    <link name="right_shoulder_cap">
        <inertial>
            <origin rpy="0 0 0" xyz="9e-06 0.003158 0.023405"/>
            <mass value="0.535396"/>
            <inertia ixx="0.000704" ixy="-1.4e-05" ixz="1.2e-05" iyy="0.00075" iyz="-3.5e-05" izz="0.000298"/>
        </inertial>
        <visual>
            <origin rpy="0 0 0" xyz="0 0 0"/>
            <geometry>
                <mesh filename="package://digit_description//meshes_new/shoulder-roll-housing.stl" scale="1 -1 1"/>
            </geometry>

            <material name="LightGrey">
                <color rgba="0.7 0.7 0.7 1.0"/>
            </material>
        </visual>
        <collision>
            <origin rpy="0 0 0" xyz="0 0 0"/>
            <geometry>
                <mesh filename="package://digit_description//meshes_new/shoulder-roll-housing.stl" scale="1 -1 1"/>
            </geometry>
        </collision>
    </link>

    <joint name="right_shoulder_roll_joint" type="revolute">
        <origin rpy="1.57079632679 -1.3962633 -1.57079632679" xyz="-0.001 -0.12 0.4"/>
        <axis xyz="0 0 1"/>
        <parent link="torso"/>
        <child link="right_shoulder_roll"/>
        <limit effort="1.4" lower="-1.309" upper="1.309" velocity="12.5"/>
    </joint>

    <link name="right_shoulder_roll">
        <inertial>
            <origin rpy="0 0 0" xyz="9e-06 -0.003158 0.023405"/>
            <mass value="0.535396"/>
            <inertia ixx="0.000704" ixy="-1.4e-05" ixz="1.2e-05" iyy="0.00075" iyz="-3.5e-05" izz="0.000298"/>
        </inertial>
        <visual>
            <origin rpy="0 0 0" xyz="0 0 0"/>
            <geometry>
                <mesh filename="package://digit_description//meshes_new/arm-L1.stl" scale="1 -1 1"/>
            </geometry>

            <material name="LightGrey">
                <color rgba="0.7 0.7 0.7 1.0"/>
            </material>
        </visual>
        <collision>
            <origin rpy="0 0 0" xyz="0 0 0"/>
            <geometry>
                <mesh filename="package://digit_description//meshes_new/arm-L1.stl" scale="1 -1 1"/>
            </geometry>
        </collision>
    </link>

    <joint name="right_shoulder_pitch_joint" type="revolute">
        <origin rpy="-1.57079632679 0.785398163397 0.0" xyz="-0.00017 0.011055 0.0555"/>
        <axis xyz="0 0 -1"/>
        <parent link="right_shoulder_roll"/>
        <child link="right_shoulder_pitch"/>
        <limit effort="1.4" lower="-2.5307" upper="2.5307" velocity="12.5"/>
    </joint>

    <link name="right_shoulder_pitch">
        <inertial>
            <origin rpy="0 0 0" xyz="-4.2e-05 0.061882 -0.073788"/>
            <mass value="1.440357"/>
            <inertia ixx="0.006761" ixy="6e-06" ixz="-3e-06" iyy="0.002087" iyz="0.002046" izz="0.005778"/>
        </inertial>
        <visual>
            <origin rpy="0 0 0" xyz="0 0 0"/>
            <geometry>
                <mesh filename="package://digit_description//meshes_new/arm-L2.stl" scale="1 -1 1"/>
            </geometry>
            <material name="LightGrey">
                <color rgba="0.7 0.7 0.7 1.0"/>
            </material>
        </visual>
        <collision>
            <origin rpy="0 0 0" xyz="0 0 0"/>
            <geometry>
                <mesh filename="package://digit_description//meshes_new/arm-L2.stl" scale="1 -1 1"/>
            </geometry>
        </collision>
    </link>

    <joint name="shoulder_yaw_joint_right" type="revolute">
        <origin rpy="1.57079632679 0 0" xyz="0 -0.165 -0.1"/>
        <axis xyz="0 0 1"/>
        <parent link="right_shoulder_pitch"/>
        <child link="right_shoulder_yaw"/>
        <limit effort="1.4" lower="-1.7453" upper="1.7453" velocity="10"/>
    </joint>

    <link name="right_shoulder_yaw">
        <inertial>
            <origin rpy="0 0 0" xyz="-3e-05 -0.001937 0.11407"/>
            <mass value="1.065387"/>
            <inertia ixx="0.006967" ixy="1e-06" ixz="-1e-06" iyy="0.007003" iyz="1.5e-05" izz="0.000673"/>
        </inertial>
        <visual>
            <origin rpy="0 0 0" xyz="0 0 0"/>
            <geometry>
                <mesh filename="package://digit_description//meshes_new/arm-L3.stl" scale="1 -1 1"/>
            </geometry>

            <material name="LightGrey">
                <color rgba="0.7 0.7 0.7 1.0"/>
            </material>
        </visual>
        <collision>
            <origin rpy="0 0 0" xyz="0 0 0"/>
            <geometry>
                <mesh filename="package://digit_description//meshes_new/arm-L3.stl" scale="1 -1 1"/>
            </geometry>
        </collision>
    </link>

    <joint name="right_elbow_joint" type="revolute">
        <origin rpy="1.57079632679 -0.3926991 0" xyz="0 -0.0385 0.185"/>
        <axis xyz="0 0 1"/>
        <parent link="right_shoulder_yaw"/>
        <child link="right_elbow"/>
        <limit effort="1.4" lower="-1.3526" upper="1.3526" velocity="12.5"/>
    </joint>

    <link name="right_elbow">
        <inertial>
            <origin rpy="0 0 0" xyz="0.107996 -0.000521 -0.017765"/>
            <mass value="0.550582"/>
            <inertia ixx="0.000476" ixy="2.9e-05" ixz="0.001403" iyy="0.009564" iyz="1.5e-05" izz="-9e-06"/>
        </inertial>
        <visual>
            <origin rpy="0 0 0" xyz="0 0 0"/>
            <geometry>
                <mesh filename="package://digit_description//meshes_new/arm-L4.stl" scale="1 -1 1"/>
            </geometry>

            <material name="LightGrey">
                <color rgba="0.7 0.7 0.7 1.0"/>
            </material>
        </visual>
        <collision>
            <origin rpy="0 0 0" xyz="0 0 0"/>
            <geometry>
                <mesh filename="package://digit_description//meshes_new/arm-L4.stl" scale="1 -1 1"/>
            </geometry>
        </collision>
    </link>

</robot>
